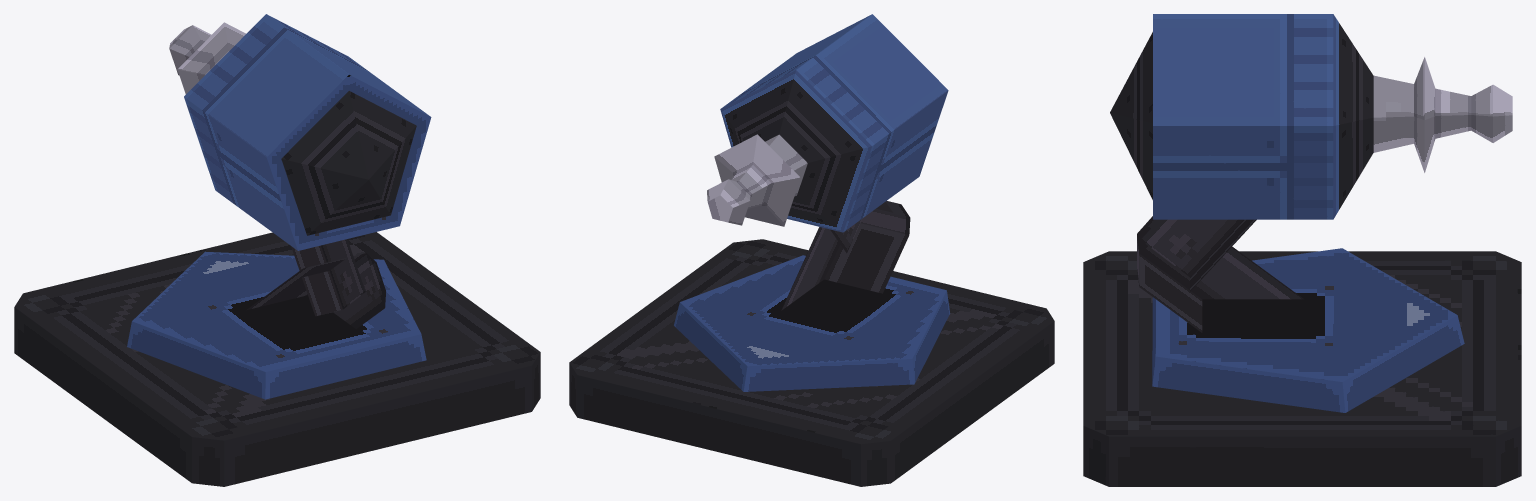
Rendered from lazer.glb.
3 views of the same model, side by side, from view 1: azimuth 30°, elevation 25°; view 2: azimuth 150°, elevation 25°; view 3: azimuth 270°, elevation 25° (orthographic). The views are drawn at different scales.
Visible parts, largest first — view 1: Cube.004, Plane.002, Plane.001, Plane.003, Plane; view 2: Cube.004, Plane.002, Plane.001, Plane; view 3: Cube.004, Plane.002, Plane.001, Plane, Plane.003.
Boxes of the visible parts, bbox=[...] form: Cube.004: bbox=[14, 232, 540, 486]; Plane.002: bbox=[169, 14, 431, 250]; Plane.001: bbox=[127, 251, 426, 399]; Plane.003: bbox=[291, 239, 365, 316]; Plane: bbox=[246, 253, 385, 329]; Cube.004: bbox=[569, 239, 1054, 486]; Plane.002: bbox=[707, 14, 948, 232]; Plane.001: bbox=[674, 255, 950, 391]; Plane: bbox=[781, 201, 910, 310]; Cube.004: bbox=[1083, 251, 1521, 486]; Plane.002: bbox=[1110, 14, 1512, 219]; Plane.001: bbox=[1152, 248, 1464, 412]; Plane: bbox=[1137, 216, 1303, 332]; Plane.003: bbox=[1141, 219, 1256, 291].
Size of the model in its own units: 1 by 0.9614 by 1.
Materials: 1 (1 with a texture image).
